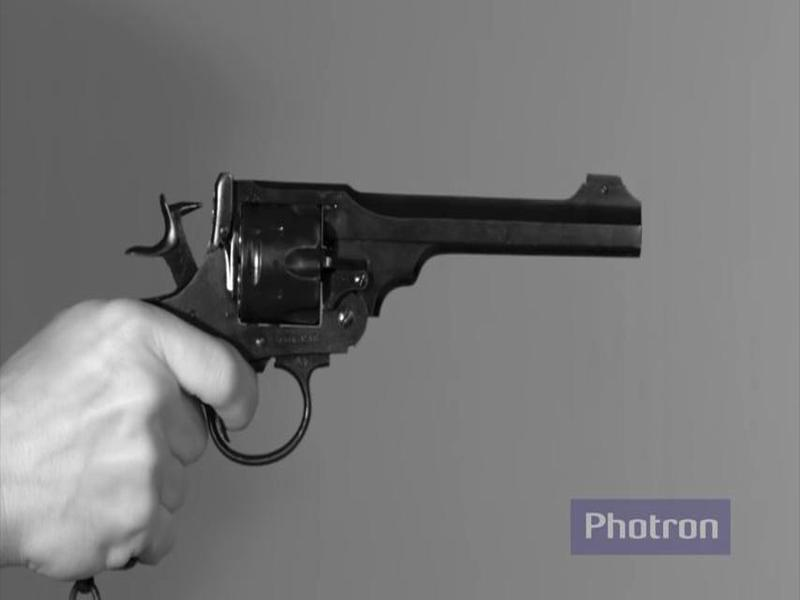Revolver: (105, 125, 667, 484)
